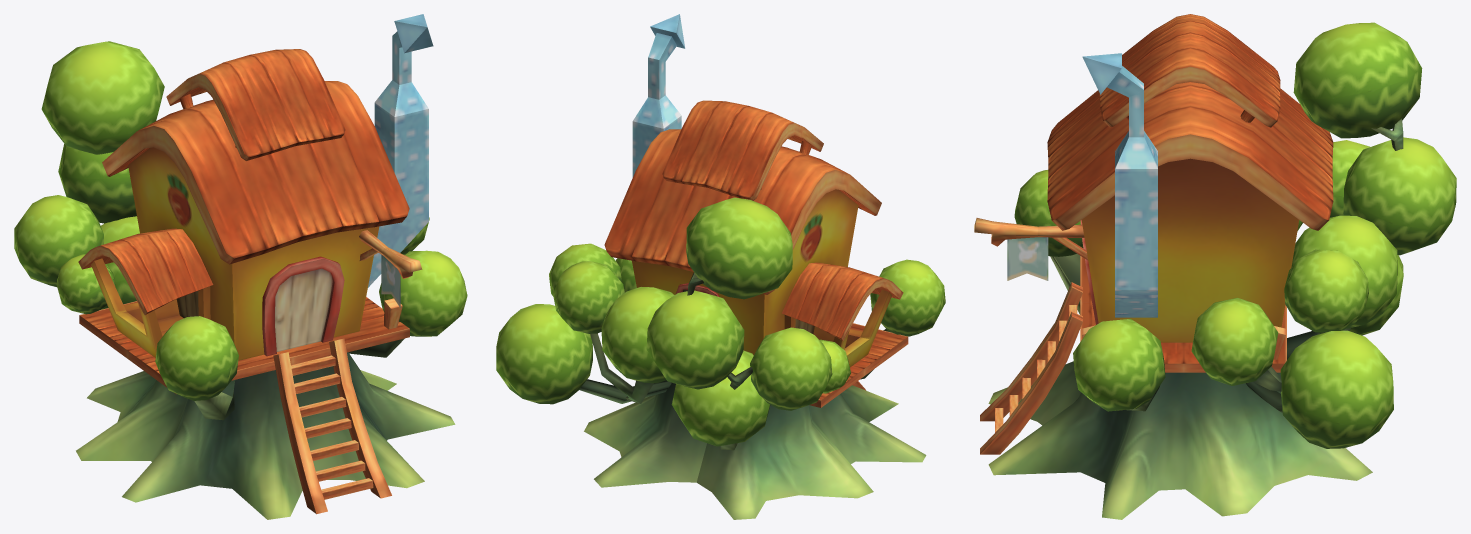
File: tuzihouse_L1.fbx
3 views of the same model, side by side, from view 1: azimuth 30°, elevation 25°; view 2: azimuth 150°, elevation 25°; view 3: azimuth 270°, elevation 25° (orthographic). The views are drawn at different scales.
Parts seen in each view (by area): view 1: polySurface487; view 2: polySurface487; view 3: polySurface487.
Part boxes in pixels (bbox=[...]): polySurface487: bbox=[14, 14, 467, 519]; polySurface487: bbox=[496, 14, 945, 519]; polySurface487: bbox=[974, 14, 1456, 519].
Size of the model in its own units: 94.92 by 102 by 101.
